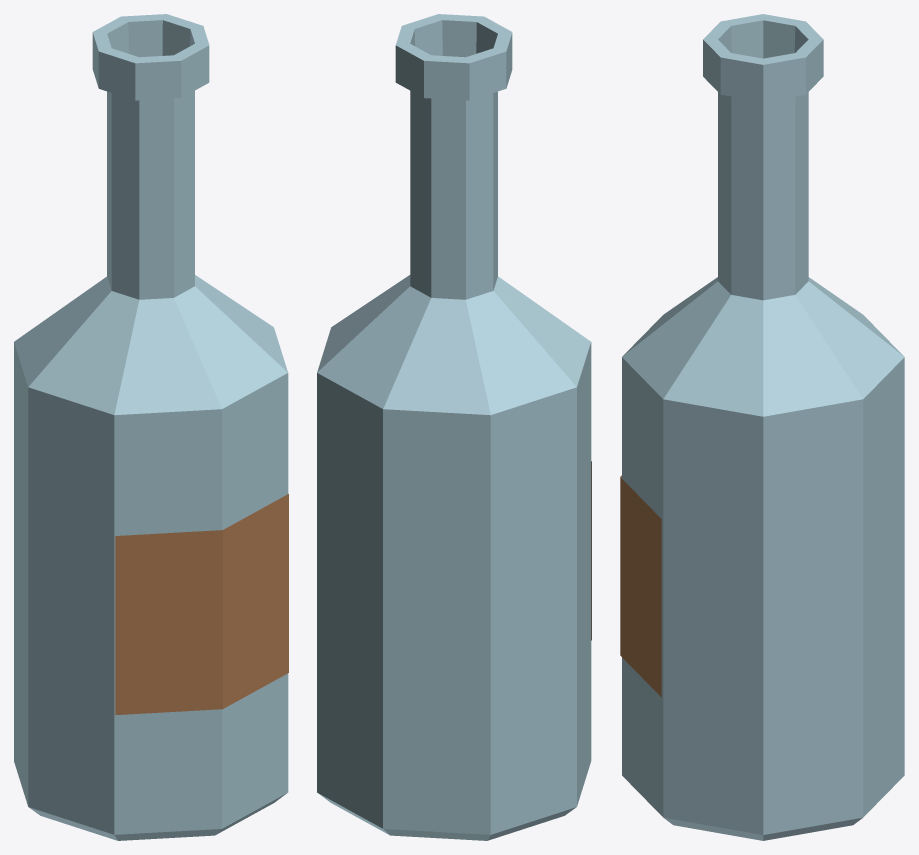
The model's file is Bottle_8.fbx.
The picture shows the model from 3 angles, left to right: view 1: azimuth 30°, elevation 25°; view 2: azimuth 150°, elevation 25°; view 3: azimuth 270°, elevation 25°; orthographic projection.
Visible parts, largest first — view 1: Bottle_8; view 2: Bottle_8; view 3: Bottle_8.
Boxes of the visible parts, x1=… form: Bottle_8: x1=14, y1=14, x2=288, y2=840; Bottle_8: x1=317, y1=14, x2=591, y2=840; Bottle_8: x1=620, y1=14, x2=904, y2=840.
Bounding box in the file's own units: 15.04 × 15.13 × 43.87.
